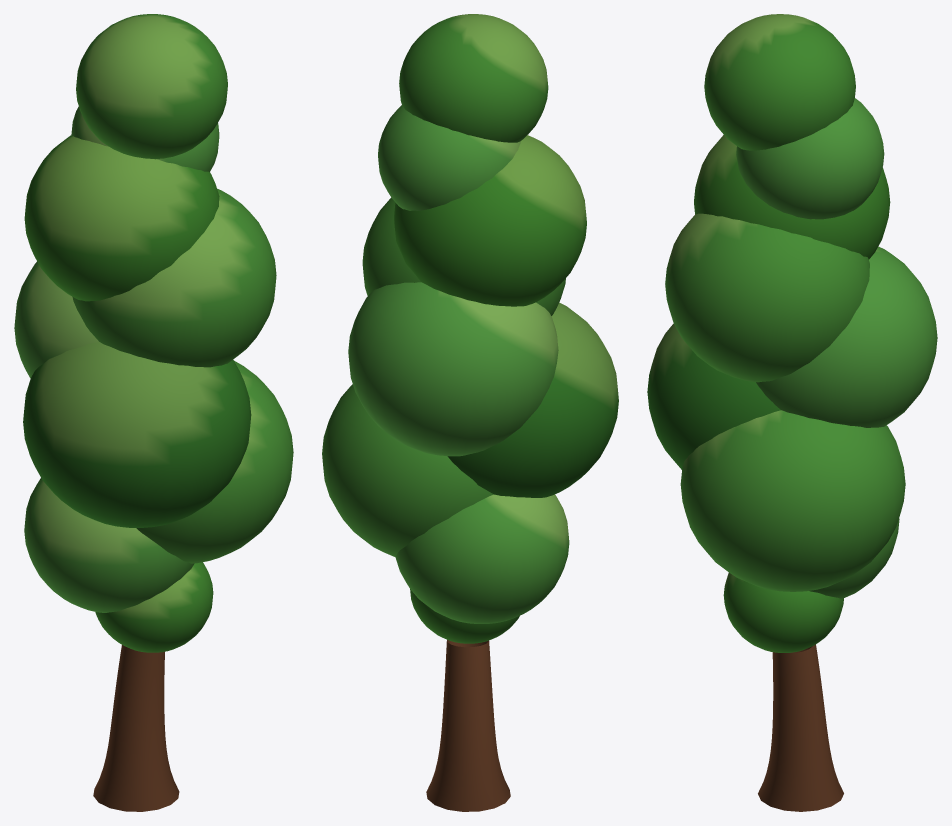
The model's file is tall-tree.obj.
3 renders of one model, left to right at view 1: azimuth 30°, elevation 25°; view 2: azimuth 150°, elevation 25°; view 3: azimuth 270°, elevation 25°, orthographic.
Visible parts, largest first — view 1: tree; view 2: tree; view 3: tree.
Boxes of the visible parts, bbox=[...] form: tree: bbox=[14, 14, 293, 811]; tree: bbox=[322, 14, 618, 811]; tree: bbox=[647, 14, 937, 811].
Bounding box in the file's own units: 210 × 609 × 207.
